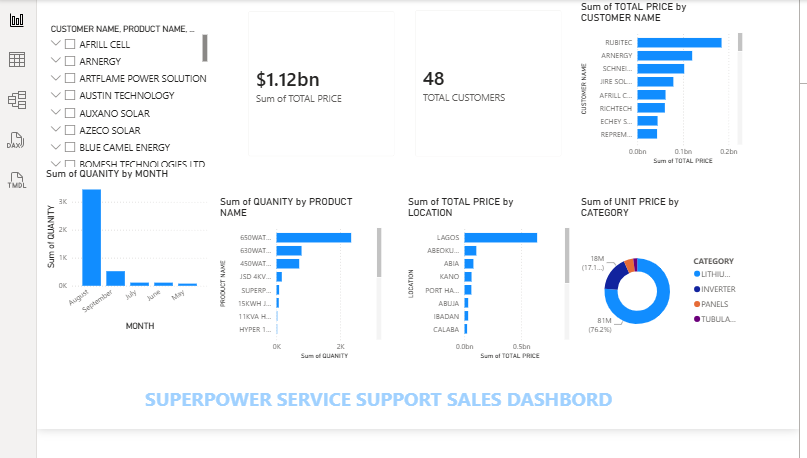

This screenshot's page, from the dashboard's own definition file:
{"tool":"powerbi","page":{"name":"Page 1","canvas":[1280,720],"ordinal":0},"visuals":[{"type":"slicer","fields":{"Values":["Sheet1.CUSTOMER NAME","Sheet1.PRODUCT NAME","Sheet1.LOCATION","Sheet1.MONTH"]},"box":[10.1,35.3,280.5,280.5],"z":0},{"type":"cardVisual","fields":{"Data":["Sum(Sheet1.TOTAL PRICE)"]},"box":[337.6,1.7,280.5,278.8],"z":1000},{"type":"cardVisual","fields":{"Data":["Sheet1.TOTAL CUSTOMERS","Sum(Sheet1.DAY)"]},"box":[618.2,0,280.5,280.5],"z":2000},{"type":"clusteredColumnChart","fields":{"Category":["Sheet1.MONTH"],"Y":["Sum(Sheet1.QUANITY)"]},"box":[10.1,280.5,280.5,280.5],"z":3000},{"type":"barChart","fields":{"Category":["Sheet1.CUSTOMER NAME"],"Y":["Sum(Sheet1.TOTAL PRICE)"]},"box":[909,0,281,281],"z":4000},{"type":"clusteredBarChart","fields":{"Y":["Sum(Sheet1.QUANITY)"],"Category":["Sheet1.PRODUCT NAME"]},"box":[302,328,281,281],"z":5000},{"type":"donutChart","fields":{"Y":["Sum(Sheet1.UNIT PRICE)"],"Category":["Sheet1.CATEGORY"]},"box":[909,328,281,281],"z":6000},{"type":"clusteredBarChart","fields":{"Category":["Sheet1.LOCATION"],"Y":["Sum(Sheet1.TOTAL PRICE)"]},"box":[618,328,281,281],"z":7000},{"type":"textbox","box":[176.4,608.1,947.4,89],"z":8000}]}

Visuals, with their boxes on the page's 1280x720 design canvas (x1, y1, x2, y2). These are canvas units, not pixel positions in the 807x458 screenshot, which may show the page scaled, cropped or inside an application window:
slicer - Sheet1.CUSTOMER NAME x Sheet1.PRODUCT NAME: [10,35,291,316]
cardVisual - Sum(Sheet1.TOTAL PRICE): [338,2,618,280]
cardVisual - Sheet1.TOTAL CUSTOMERS x Sum(Sheet1.DAY): [618,0,899,280]
clusteredColumnChart - Sheet1.MONTH x Sum(Sheet1.QUANITY): [10,280,291,561]
barChart - Sheet1.CUSTOMER NAME x Sum(Sheet1.TOTAL PRICE): [909,0,1190,281]
clusteredBarChart - Sum(Sheet1.QUANITY) x Sheet1.PRODUCT NAME: [302,328,583,609]
donutChart - Sum(Sheet1.UNIT PRICE) x Sheet1.CATEGORY: [909,328,1190,609]
clusteredBarChart - Sheet1.LOCATION x Sum(Sheet1.TOTAL PRICE): [618,328,899,609]
textbox: [176,608,1124,697]
